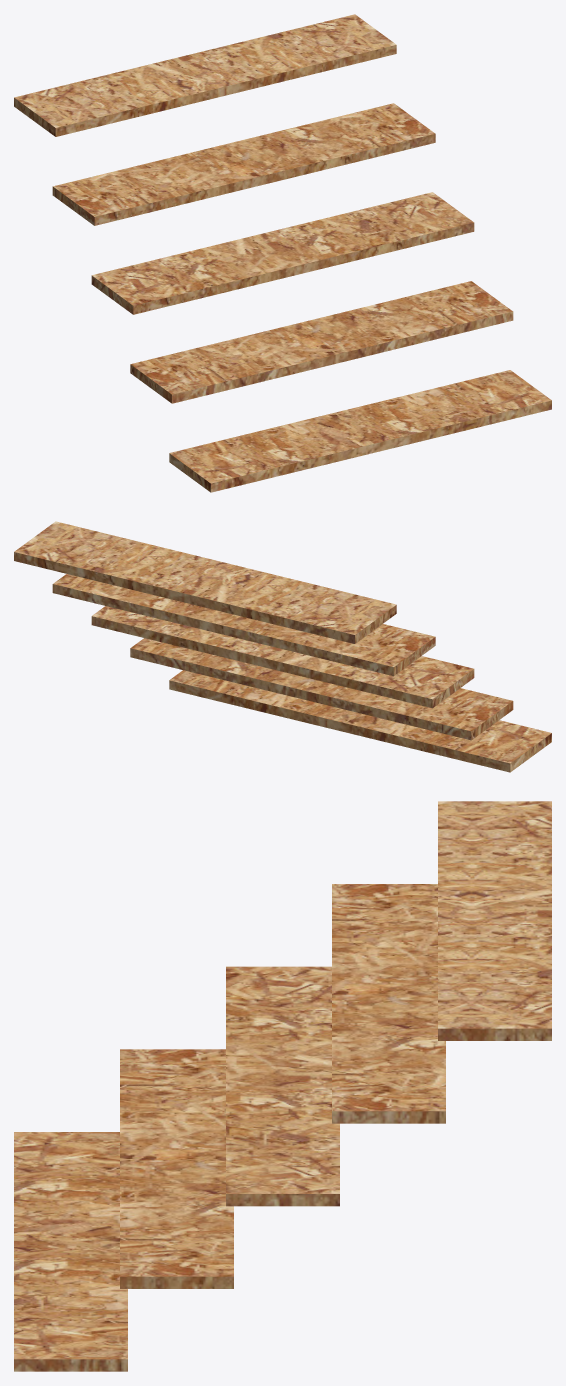
The model's file is nist_stairs_120.dae.
3 renders of one model, top to bottom at view 1: azimuth 30°, elevation 25°; view 2: azimuth 150°, elevation 25°; view 3: azimuth 270°, elevation 25°, orthographic. The views are drawn at different scales.
Parts seen in each view (by area): view 1: Plane_001; view 2: Plane_001; view 3: Plane_001.
Boxes of the visible parts, bbox=[...] form: Plane_001: bbox=[14, 14, 551, 492]; Plane_001: bbox=[14, 521, 551, 772]; Plane_001: bbox=[14, 801, 551, 1371].
Bounding box in the file's own units: 1.18 × 1.18 × 0.83.
Materials: 1 (1 with a texture image).
